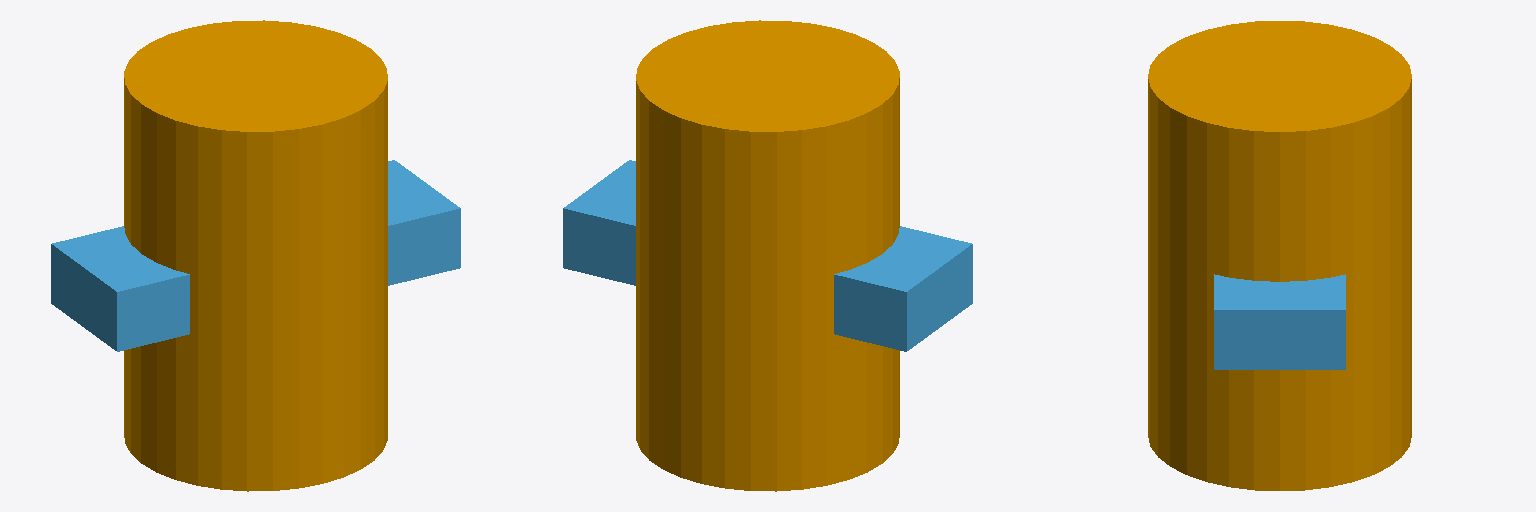
The robot description file, URDF, robot "my_robot2":
<?xml version="1.0"?>
<robot name="my_robot2">
  <link name="base_link">
    <visual>
      <geometry>
        <cylinder length="0.6" radius="0.2"/>
      </geometry>
    </visual>
  </link>

  <link name="right_leg">
    <visual>
      <geometry>
        <box size="0.6 .2 .1"/>
      </geometry>
    </visual>
  </link>

  <joint name="base_to_right_leg" type="fixed">
    <parent link="base_link"/>
    <child link="right_leg"/>
  </joint>
</robot>

--- Facts derived from the render (not from the file) ---
3 views of the same robot in one strip: view 1: azimuth 30°, elevation 25°; view 2: azimuth 150°, elevation 25°; view 3: azimuth 270°, elevation 25° (orthographic).
Model my_robot2 with 2 links and 1 joints (1 fixed), rooted at base_link, posed all joints at 0.
Visible links, largest first — view 1: base_link, right_leg; view 2: base_link, right_leg; view 3: base_link, right_leg.
Boxes of the visible links, x1,y1,x2,y2 form: base_link: (124,20,387,491); right_leg: (51,160,460,351); base_link: (636,20,899,491); right_leg: (563,160,972,351); base_link: (1148,21,1411,490); right_leg: (1214,274,1345,369).
Bounding box of the posed robot: 0.6 × 0.4 × 0.6 m (x, y, z).
Geometry: primitives only (box / cylinder / sphere), no mesh files.